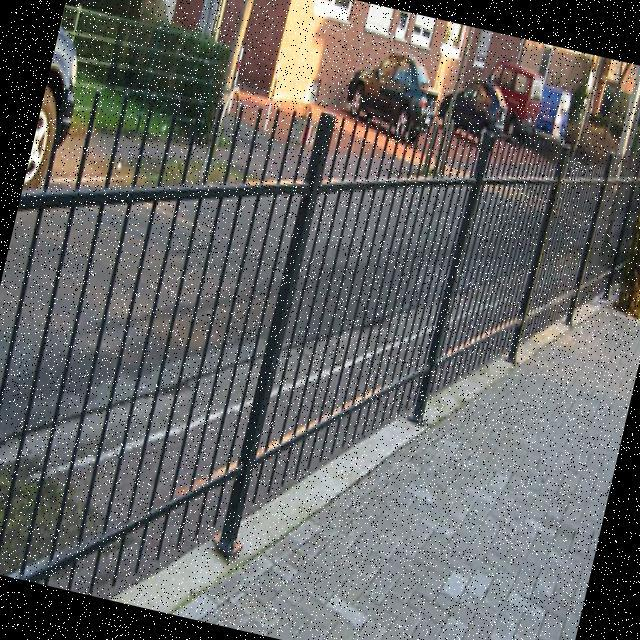fence line: (0, 18, 366, 628), (216, 84, 512, 582), (399, 108, 639, 459)
